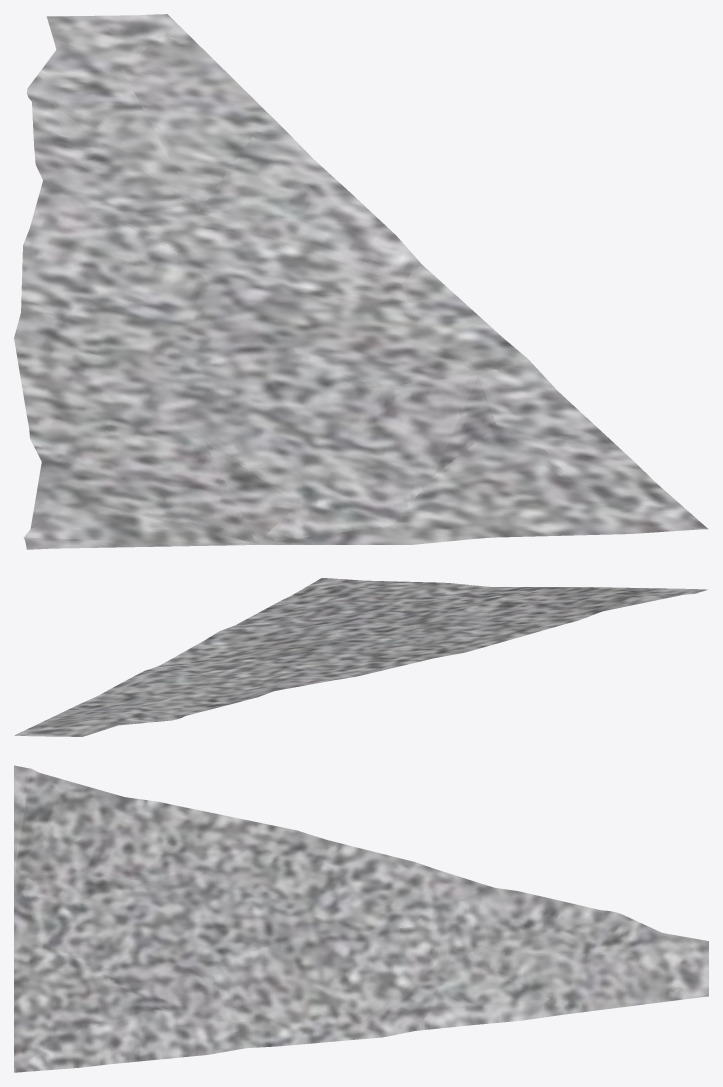
3 views of the same model, one above another, from view 1: azimuth 30°, elevation 25°; view 2: azimuth 150°, elevation 25°; view 3: azimuth 270°, elevation 25° (orthographic). The views are drawn at different scales.
Size of the model in its own units: 0.6091 by 0.1245 by 0.8373.
Materials: 1 (1 with a texture image).
